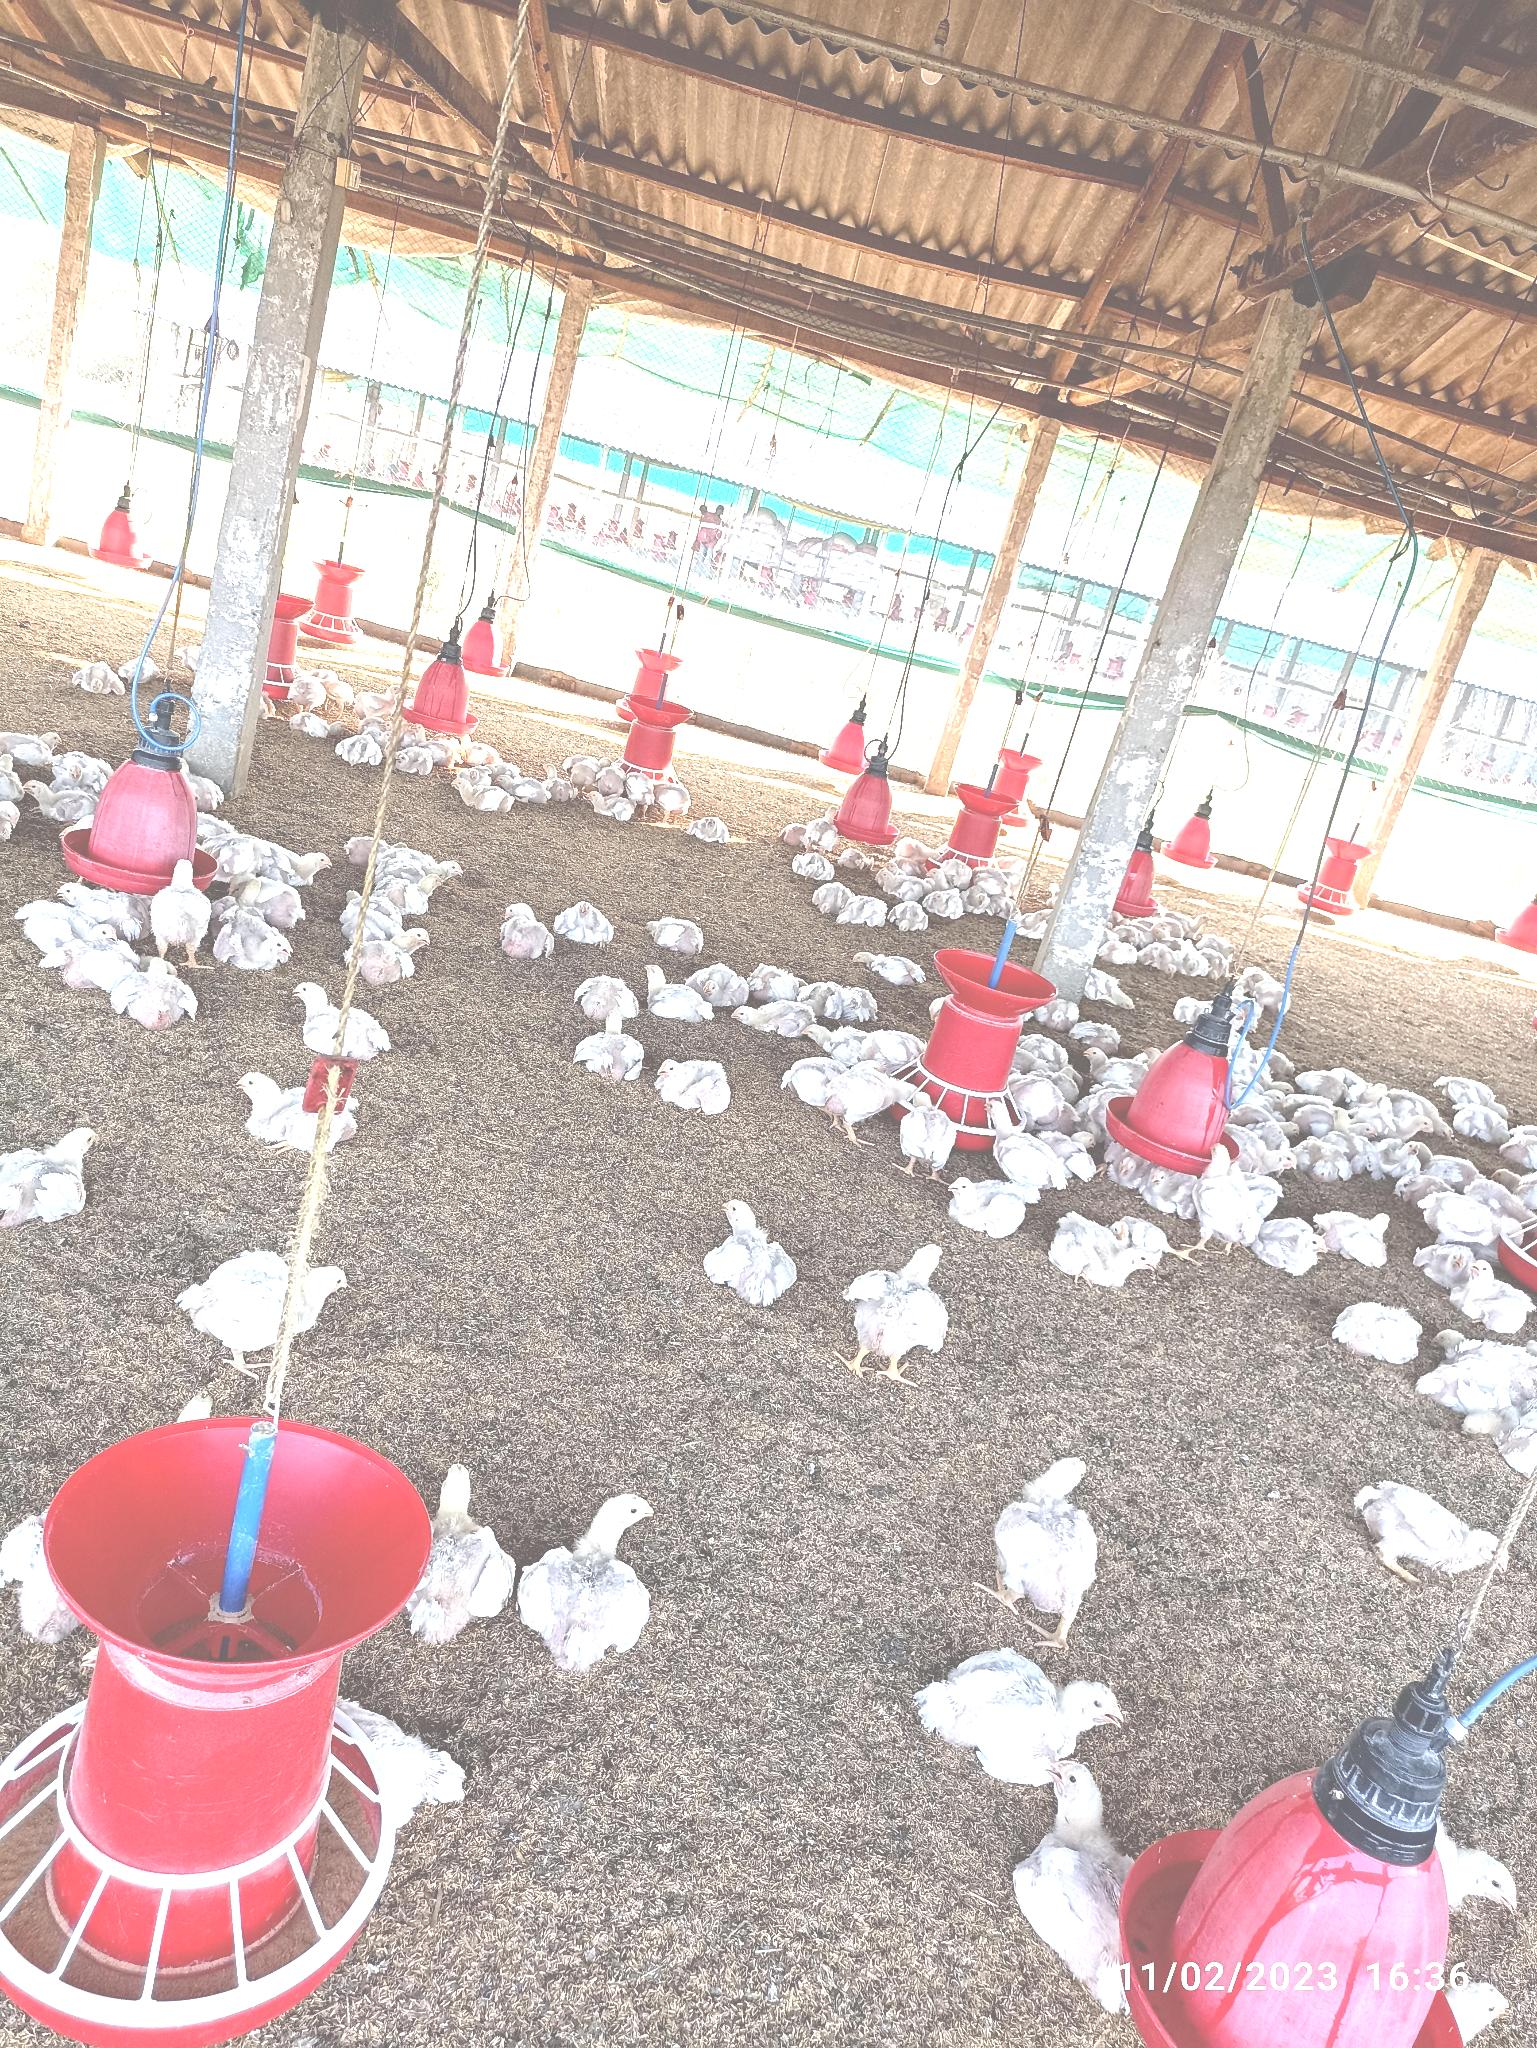Pollos: (1012, 1762, 1132, 1980), (534, 1486, 654, 1674), (922, 1651, 1137, 1751), (996, 1448, 1116, 1604), (421, 1462, 518, 1640), (1351, 1470, 1508, 1574), (852, 1243, 949, 1377), (189, 1264, 350, 1340), (2, 1125, 102, 1230), (706, 1199, 791, 1309), (1053, 1215, 1162, 1291), (287, 978, 392, 1054), (986, 1101, 1069, 1196), (1464, 1257, 1535, 1336), (124, 959, 207, 1026), (1342, 1298, 1421, 1364), (237, 1072, 308, 1143), (52, 922, 124, 984), (643, 963, 720, 1022), (153, 860, 200, 951), (954, 1172, 1017, 1236), (497, 897, 559, 962), (835, 1055, 891, 1122), (220, 913, 294, 963), (363, 928, 433, 980), (659, 1062, 731, 1109), (575, 972, 638, 1023), (909, 1091, 953, 1164), (1335, 1214, 1398, 1264), (1237, 1130, 1298, 1180), (578, 1036, 655, 1075), (379, 847, 463, 883), (1259, 1223, 1332, 1264), (644, 912, 710, 954), (854, 946, 927, 981), (452, 778, 517, 817), (268, 849, 333, 883), (735, 1004, 817, 1030), (555, 902, 614, 938), (79, 663, 126, 699), (339, 729, 381, 768), (399, 741, 434, 778), (814, 888, 857, 913), (891, 904, 930, 928), (696, 818, 730, 842), (794, 852, 830, 875)
